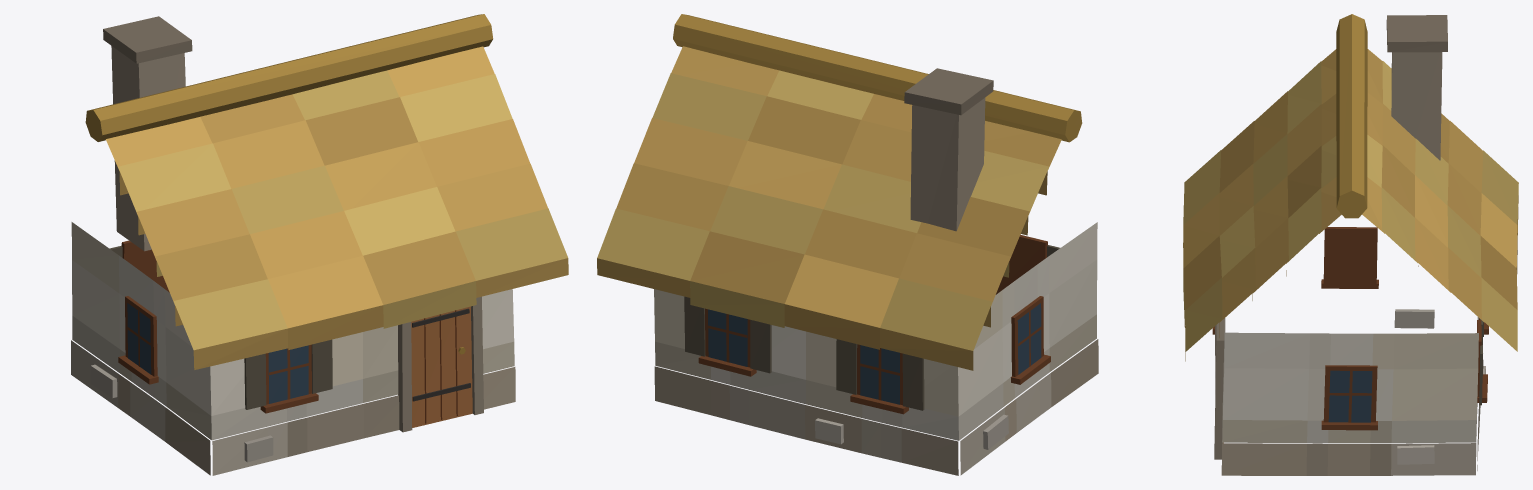
The model's file is cottage-2.glb.
3 renders of one model, left to right at view 1: azimuth 30°, elevation 25°; view 2: azimuth 150°, elevation 25°; view 3: azimuth 270°, elevation 25°, orthographic. The views are drawn at different scales.
Visible parts, largest first — view 1: buildings/cottage-2; view 2: buildings/cottage-2; view 3: buildings/cottage-2.
Part boxes in pixels (x1,y1,x2,y2): buildings/cottage-2: (71,14,568,475); buildings/cottage-2: (597,14,1098,475); buildings/cottage-2: (1183,14,1518,475).
Size of the model in its own units: 5.93 by 5.12 by 4.74.
